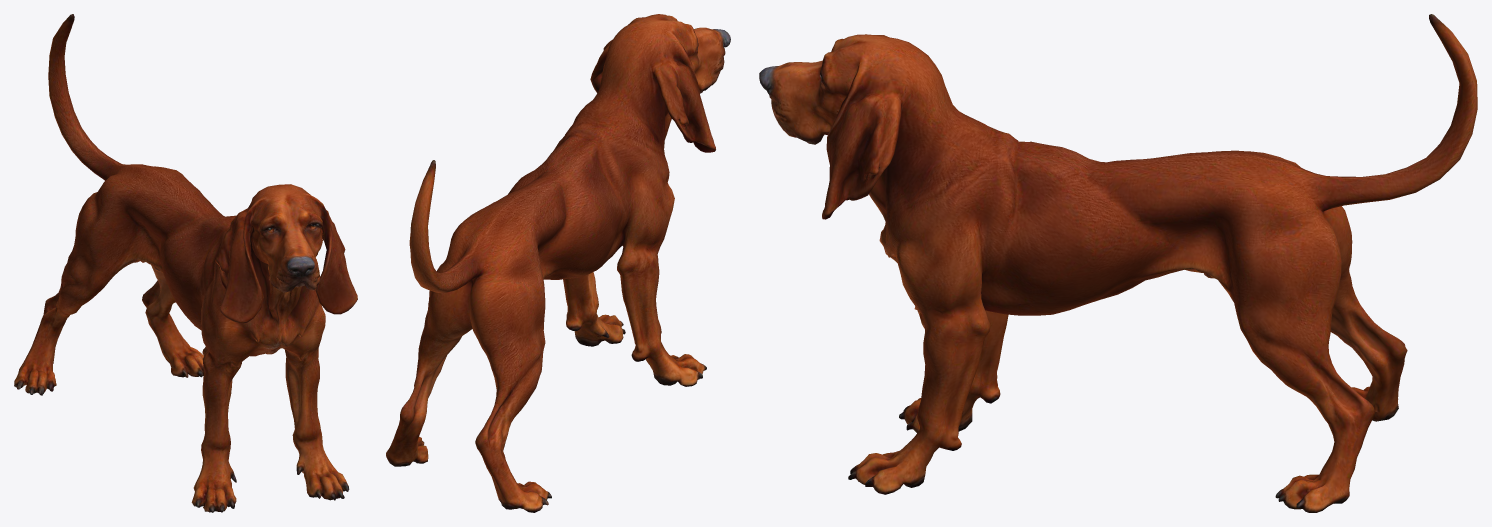
Rendered from redbone-coonhound.2c042b0946.glb.
The picture shows the model from 3 angles, left to right: view 1: azimuth 30°, elevation 25°; view 2: azimuth 150°, elevation 25°; view 3: azimuth 270°, elevation 25°; orthographic projection. The views are drawn at different scales.
Parts seen in each view (by area): view 1: redbone; view 2: redbone; view 3: redbone.
Boxes of the visible parts, left/top/right/bottom form: redbone: left=14, top=14, right=357, bottom=512; redbone: left=386, top=14, right=730, bottom=512; redbone: left=759, top=14, right=1477, bottom=512.
Size of the model in its own units: 0.454 by 0.8555 by 1.25.
Materials: 1 (1 with a texture image).
